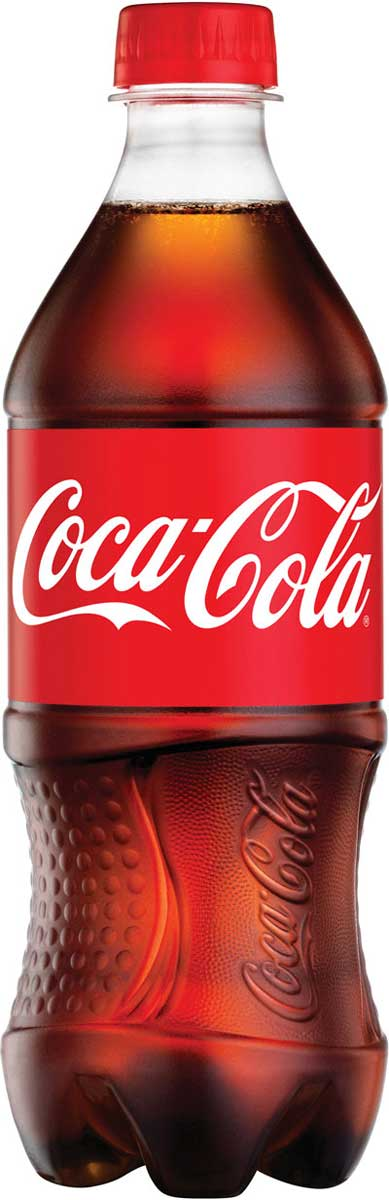Coca-Cola: (9, 22, 389, 1151)
